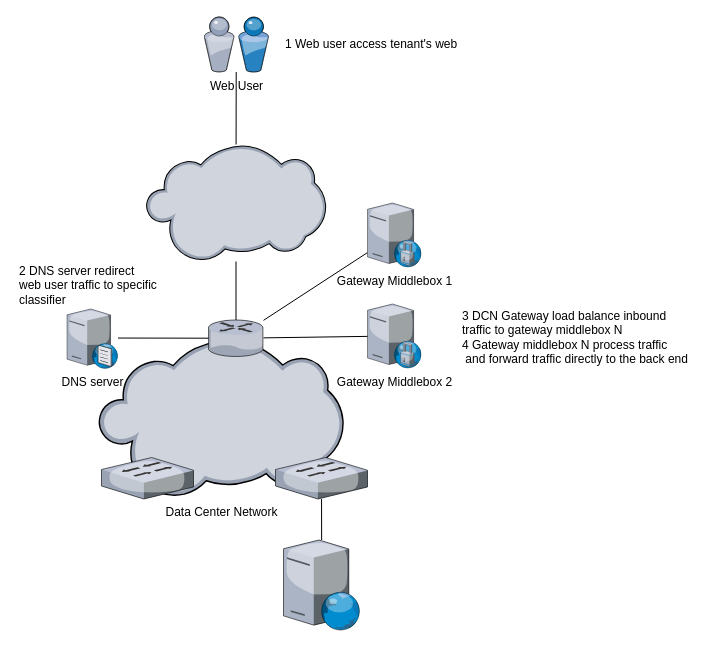
The diagram is 717 pixels wide and 668 high, and some of its shapes have lost their labels. The centre of each missing label's shape, as x and y in pixels:
Cloud provider's backend: point 321,585
DCN Gateway: point 235,338
Internet: point 236,202
